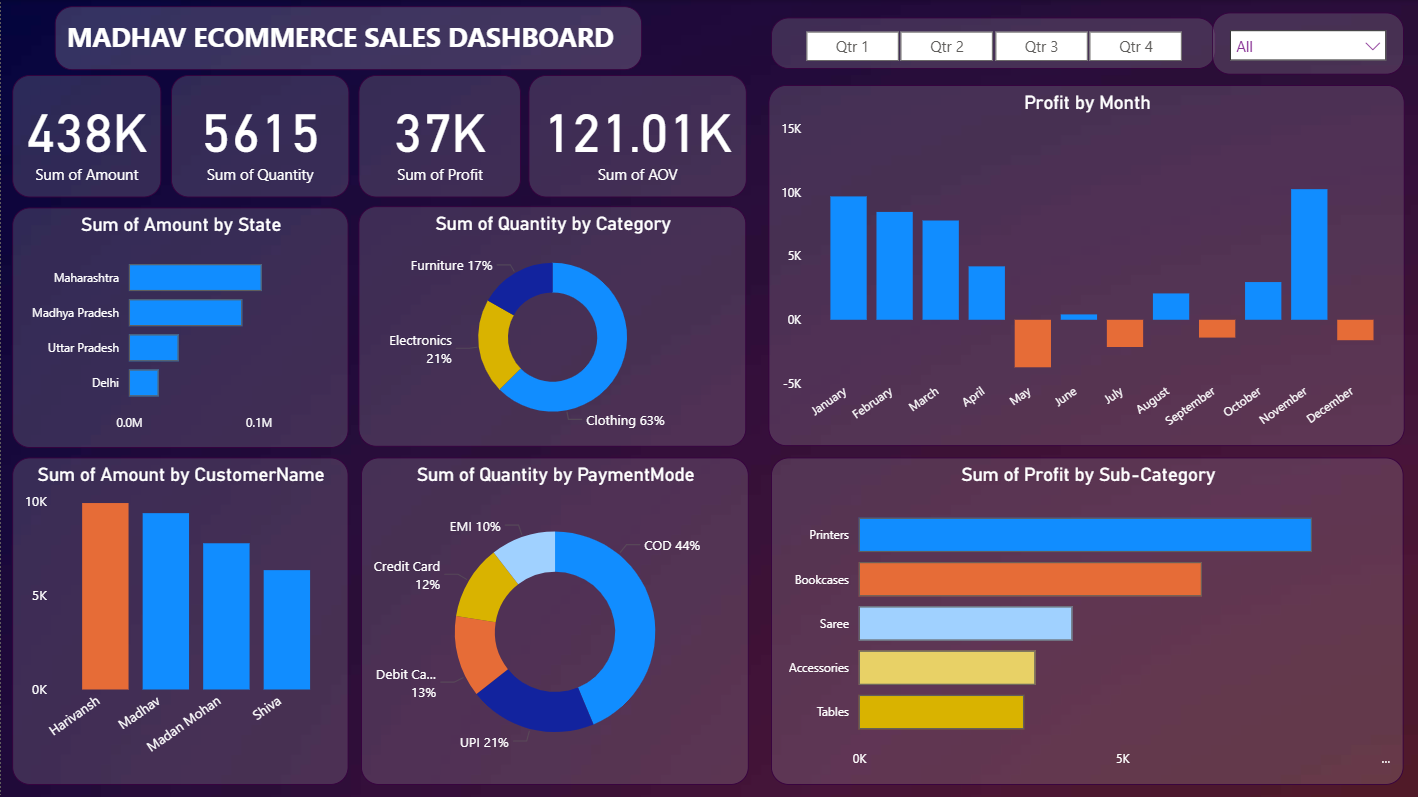

The page's visual inventory and layout, read from the dashboard file:
{"tool":"powerbi","page":{"name":"Page 1","canvas":[1280,720],"ordinal":0},"visuals":[{"type":"textbox","box":[48,5.5,529.7,57.6],"z":0},{"type":"columnChart","title":"Profit by Month","fields":{"Y":["Details.Profit"],"Category":["Orders.Order Date.Variation.Date Hierarchy.Month"]},"box":[691.6,76.6,573.5,325.9],"z":1000},{"type":"clusteredBarChart","fields":{"Category":["Details.Sub-Category"],"Y":["Details.Profit"]},"box":[694.4,413,570.7,294.8],"z":2000},{"type":"donutChart","fields":{"Category":["Details.Category"],"Y":["Details.Quantity"]},"box":[322.7,186.3,349.6,216.4],"z":3000},{"type":"donutChart","fields":{"Y":["Details.Quantity"],"Category":["Details.PaymentMode"]},"box":[324.7,413,349.6,294.8],"z":4000},{"type":"card","fields":{"Values":["Details.Amount"]},"box":[10,67.2,134.3,110.7],"z":5000},{"type":"card","fields":{"Values":["Details.Quantity"]},"box":[153,67.2,160.5,110.7],"z":6000},{"type":"card","fields":{"Values":["Details.Profit"]},"box":[322.2,67.2,146.8,110.7],"z":7000},{"type":"card","fields":{"Values":["Details.AOV"]},"box":[475.2,67.2,196.5,110.7],"z":8000},{"type":"clusteredBarChart","fields":{"Category":["Orders.State"],"Y":["Details.Amount"]},"box":[9.6,186.6,303.3,216.8],"z":9000},{"type":"columnChart","fields":{"Category":["Orders.CustomerName"],"Y":["Details.Amount"]},"box":[10,413,303,295],"z":10000},{"type":"slicer","fields":{"Values":["Orders.Order Date.Variation.Date Hierarchy.Quarter"]},"box":[694.1,16.2,400.6,46],"z":11000},{"type":"slicer","fields":{"Values":["Orders.State"]},"box":[1092.2,11.2,172.9,56],"z":12000}]}

Visuals, with their boxes in screenshot pixels (x1, y1, x2, y2), scaled from the page's 1280x720 canvas onto the 1418x797 screenshot:
textbox: <box>53,6,640,70</box>
"Profit by Month" columnChart: <box>766,85,1401,446</box>
clusteredBarChart - Details.Sub-Category x Details.Profit: <box>769,457,1401,783</box>
donutChart - Details.Category x Details.Quantity: <box>357,206,745,446</box>
donutChart - Details.Quantity x Details.PaymentMode: <box>360,457,747,783</box>
card - Details.Amount: <box>11,74,160,197</box>
card - Details.Quantity: <box>169,74,347,197</box>
card - Details.Profit: <box>357,74,520,197</box>
card - Details.AOV: <box>526,74,744,197</box>
clusteredBarChart - Orders.State x Details.Amount: <box>11,207,347,447</box>
columnChart - Orders.CustomerName x Details.Amount: <box>11,457,347,784</box>
slicer - Orders.Order Date.Variation.Date Hierarchy.Quarter: <box>769,18,1213,69</box>
slicer - Orders.State: <box>1210,12,1401,74</box>
